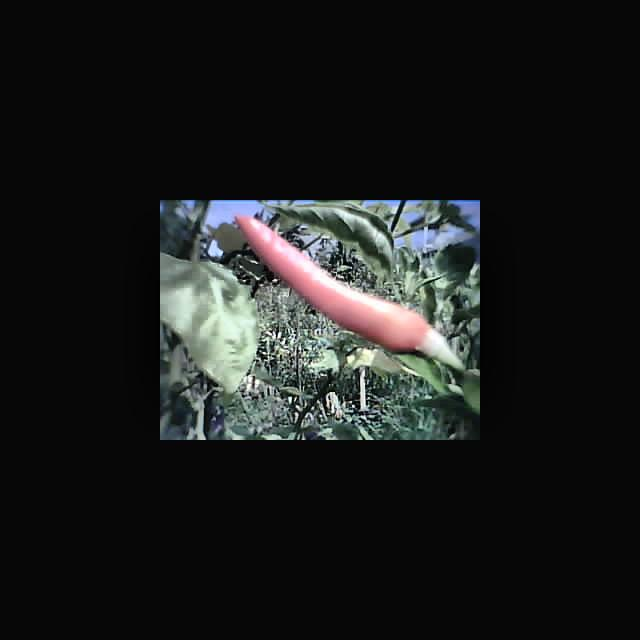Cabai: (234, 213, 443, 352)
